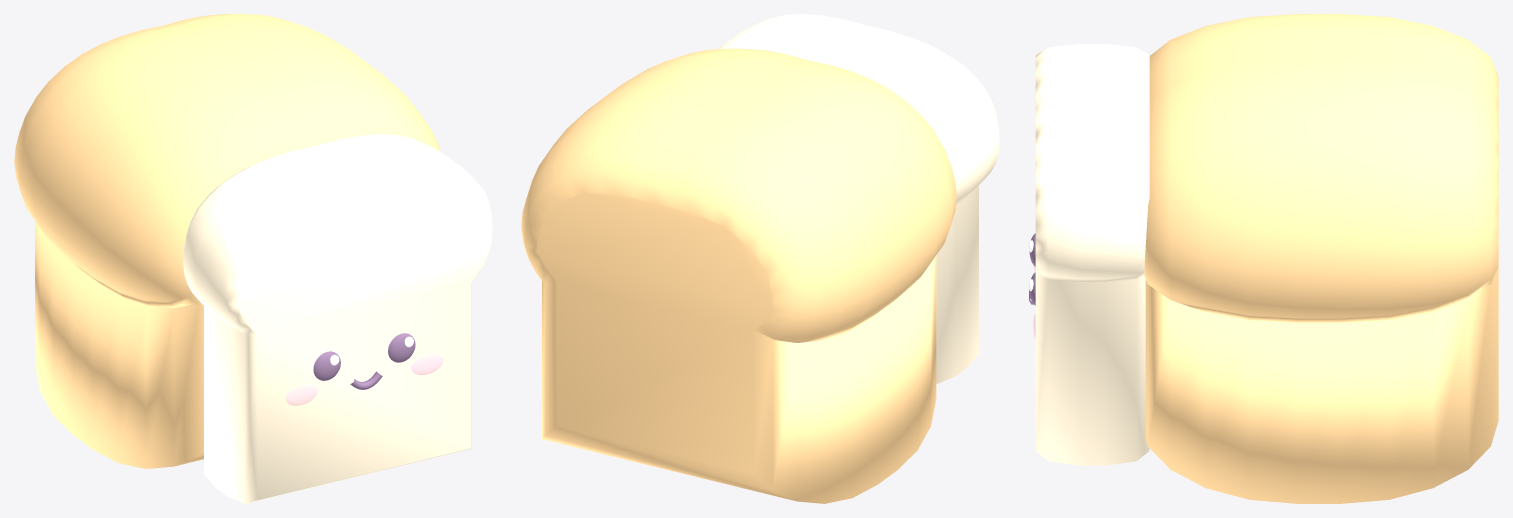
File: squishy_toast.glb
3 renders of one model, left to right at view 1: azimuth 30°, elevation 25°; view 2: azimuth 150°, elevation 25°; view 3: azimuth 270°, elevation 25°, orthographic. The views are drawn at different scales.
Parts seen in each view (by area): view 1: toast; view 2: toast; view 3: toast.
Part boxes in pixels (x1,y1,x2,y2): toast: (14,14,492,503); toast: (521,14,999,503); toast: (1028,14,1498,503).
Bounding box in the file's own units: 1 × 1 × 1.13.
